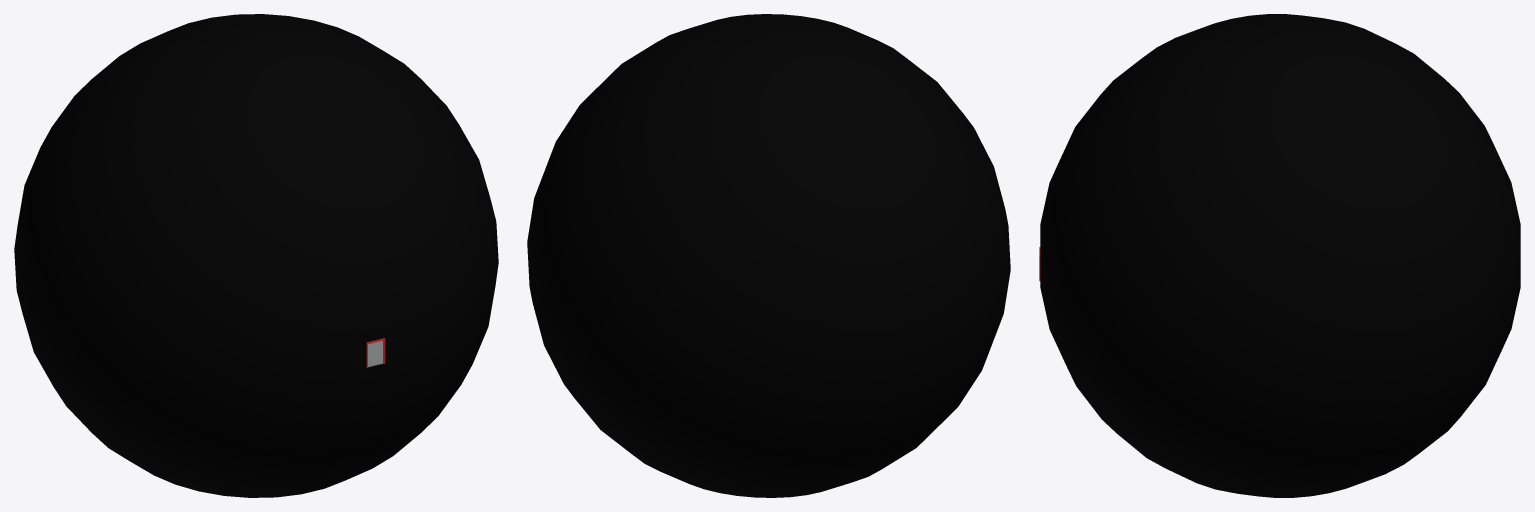
Rendered from artifact.glb.
The picture shows the model from 3 angles, left to right: view 1: azimuth 30°, elevation 25°; view 2: azimuth 150°, elevation 25°; view 3: azimuth 270°, elevation 25°; orthographic projection.
Visible parts, largest first — view 1: clipSphere; view 2: clipSphere; view 3: clipSphere.
Boxes of the visible parts, box(x1,y1,x2,y2) form: clipSphere: box(14, 14, 498, 497); clipSphere: box(527, 14, 1010, 497); clipSphere: box(1040, 14, 1520, 497).
Bounding box in the file's own units: 41.29 × 41.29 × 41.19.
Materials: 5 (1 with a texture image).
